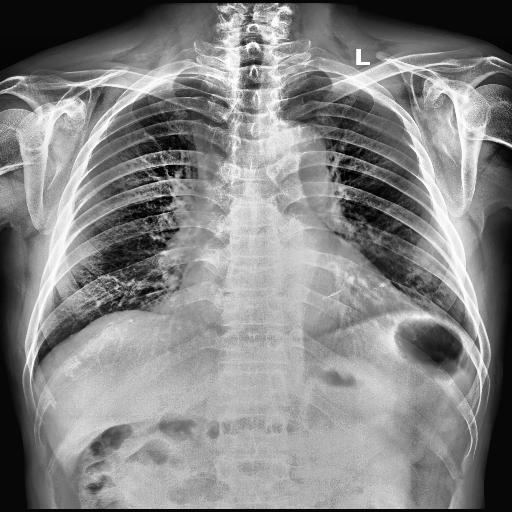0- Aortic enlargement: (256, 118, 330, 200), (252, 118, 332, 192), (257, 118, 327, 187)
3- Cardiomegaly: (164, 268, 422, 330), (164, 279, 410, 331)
7- Lung Opacity: (191, 116, 230, 185)
9- Other lesion: (191, 116, 230, 185)
